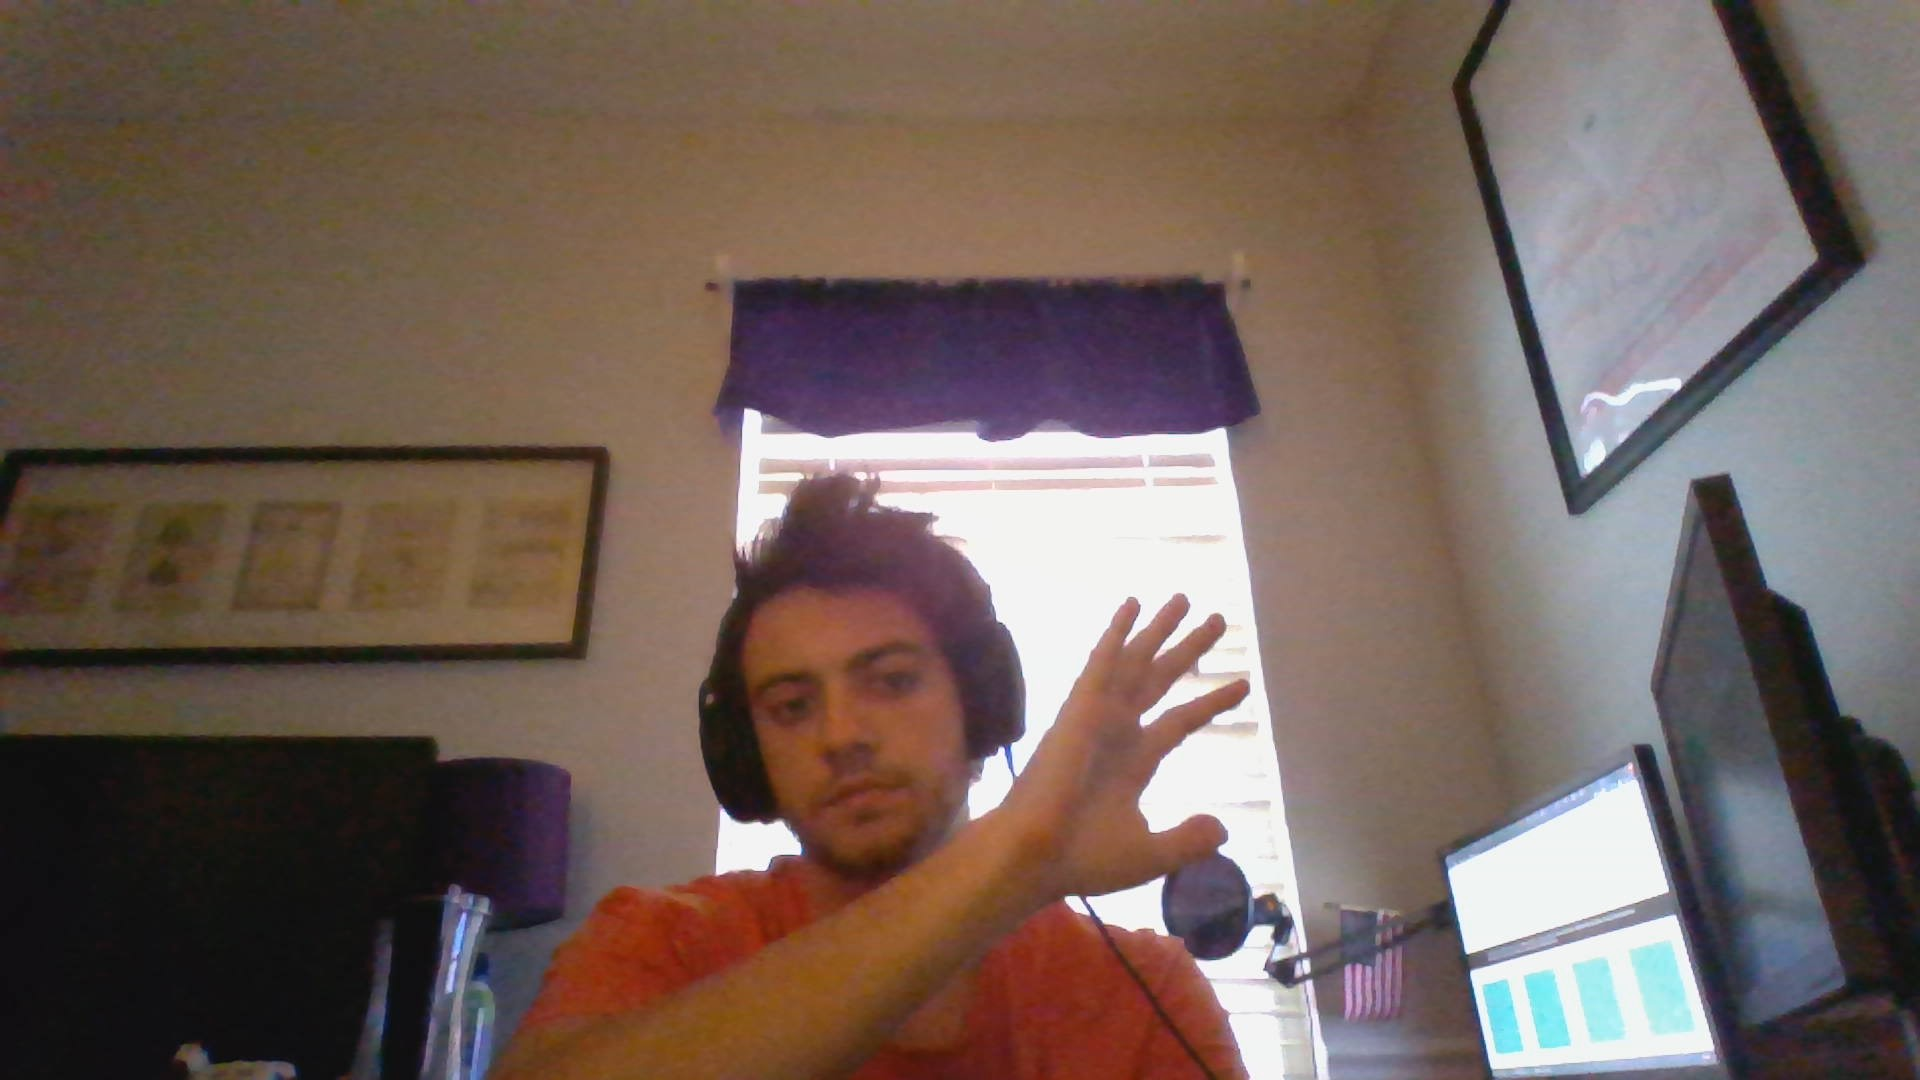Right Palm Up: (1007, 582, 1254, 897)
